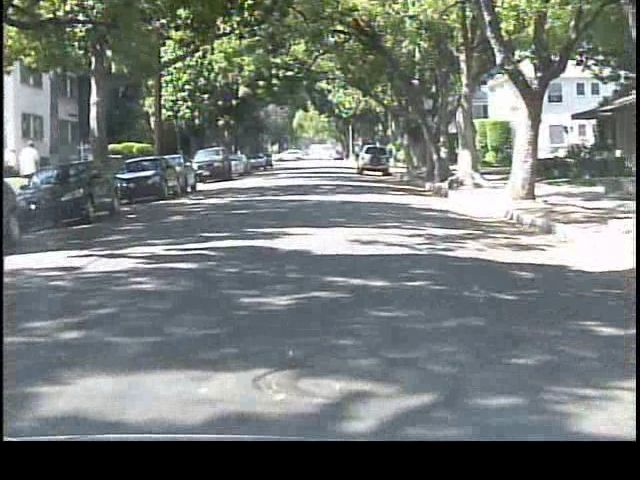person: (19, 138, 47, 205)
